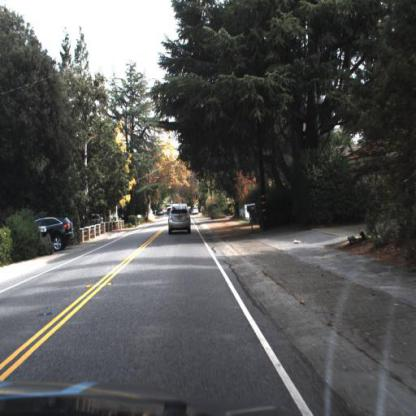car: (39, 208, 76, 254), (36, 217, 74, 254), (166, 200, 194, 233)
